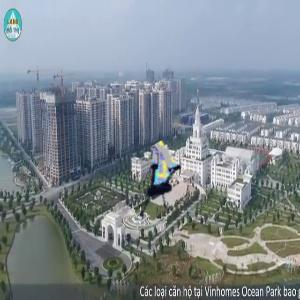drone: (117, 152, 195, 230)
